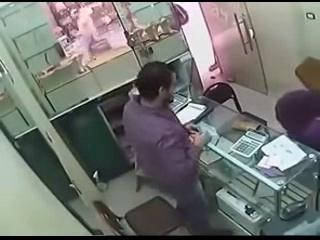Normal: (122, 62, 212, 234)
